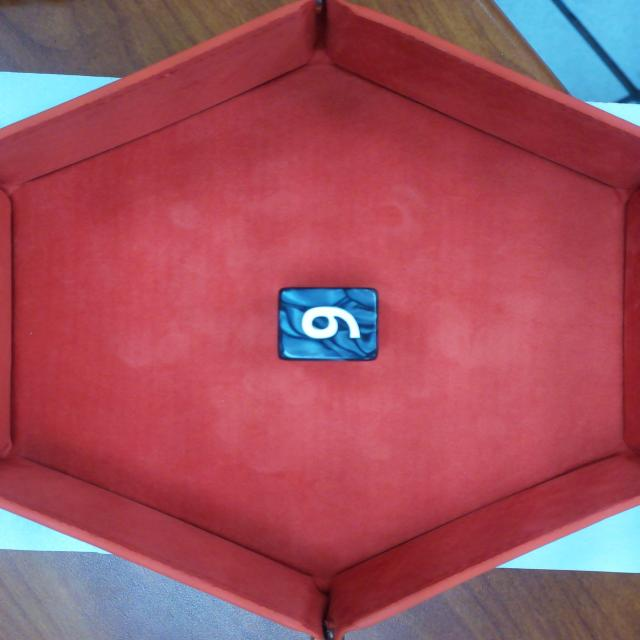dice: (276, 284, 383, 363)
